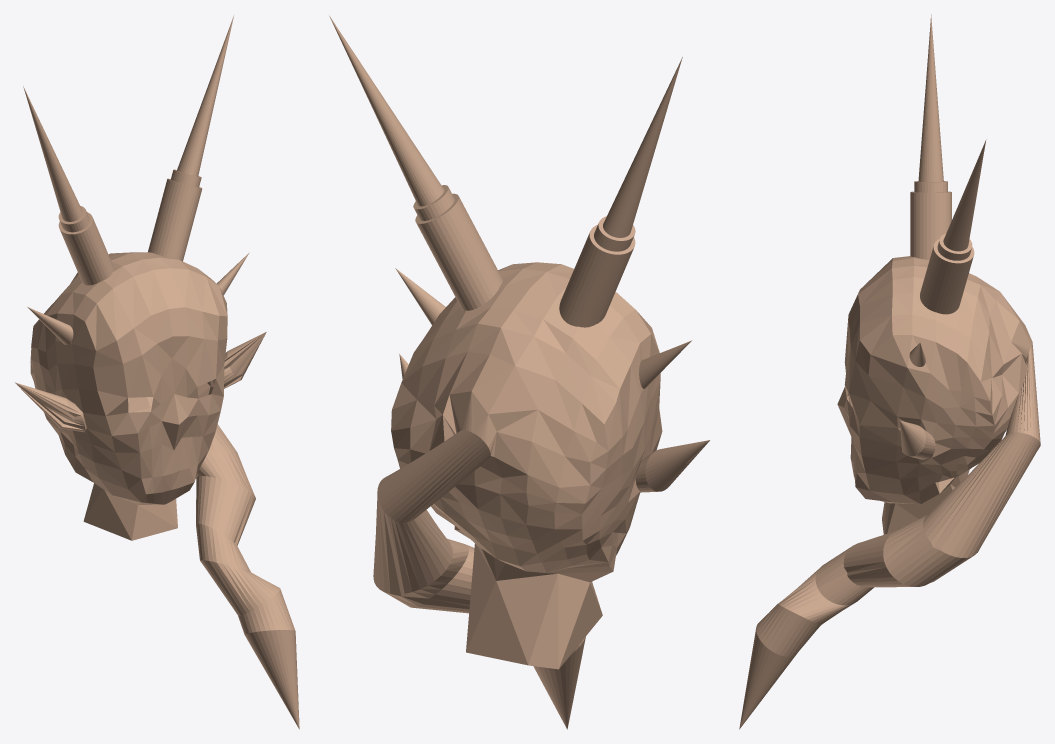
The model's file is Head.obj.
3 renders of one model, left to right at view 1: azimuth 30°, elevation 25°; view 2: azimuth 150°, elevation 25°; view 3: azimuth 270°, elevation 25°, orthographic. The views are drawn at different scales.
Parts seen in each view (by area): view 1: Cube.003_Lilith_Model.006; view 2: Cube.003_Lilith_Model.006; view 3: Cube.003_Lilith_Model.006.
Boxes of the visible parts, x1=… form: Cube.003_Lilith_Model.006: x1=15, y1=16, x2=299, y2=729; Cube.003_Lilith_Model.006: x1=329, y1=15, x2=709, y2=729; Cube.003_Lilith_Model.006: x1=739, y1=14, x2=1040, y2=729.
Size of the model in its own units: 23.49 by 54.89 by 23.95.
